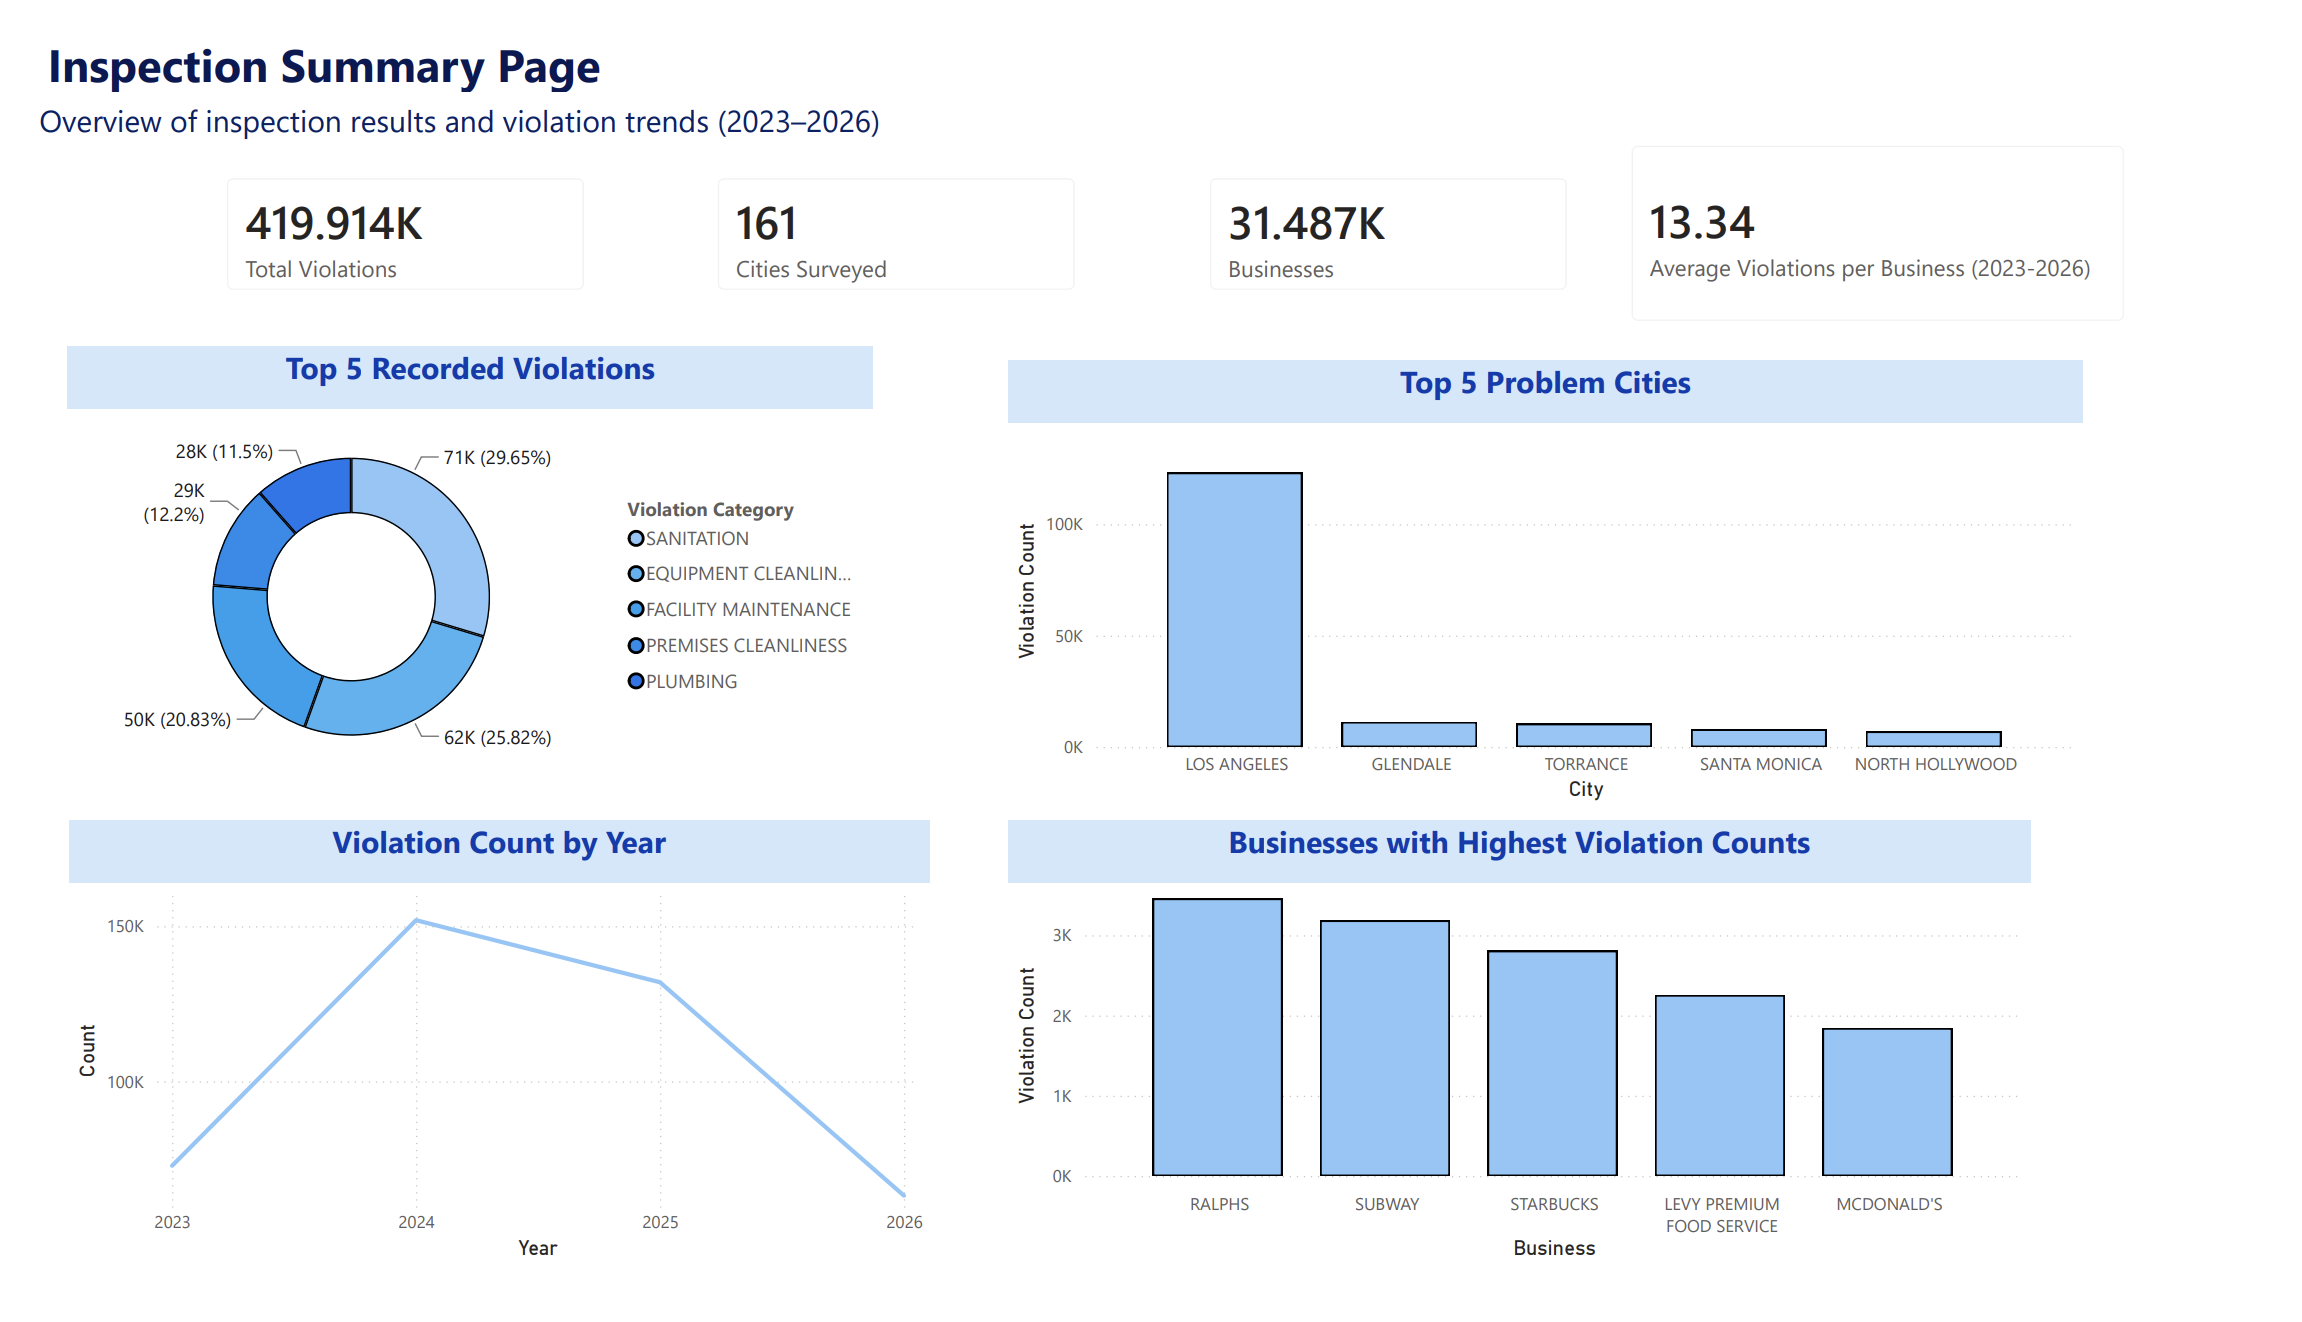

The dashboard page shown, as its layout file describes it:
{"tool":"powerbi","page":{"name":"Home Summary Page","canvas":[1600,900],"ordinal":0},"visuals":[{"type":"textbox","box":[10.4,0,419.4,79.1],"z":0},{"type":"cardVisual","fields":{"Data":["CountNonNull(violations_clean.violation_description)"]},"box":[125.4,91,286.6,113.4],"z":1000},{"type":"cardVisual","fields":{"Data":["Count(inspections_clean.facility_city)"]},"box":[473.1,91,286.6,113.4],"z":2000},{"type":"cardVisual","fields":{"Data":["Count(inspections_clean.ParentCompanyClean)"]},"box":[822.4,91,286.6,113.4],"z":3000},{"type":"donutChart","title":"Top 5 Recorded Violations","fields":{"Category":["violations_clean.violation_mapping.standardized_category"],"Y":["inspections_clean.violation_count"]},"box":[28.8,226.8,571.6,316.4],"z":4000},{"type":"columnChart","title":"Top 5 Problem Cities","fields":{"Category":["inspections_clean.facility_city"],"Y":["inspections_clean.violation_count"]},"box":[695.5,237.3,762.7,316.4],"z":5000},{"type":"lineChart","title":"Violation Count by Year","fields":{"Category":["CalendarDate.Year"],"Y":["inspections_clean.violation_count"]},"box":[29.9,562.7,610.4,316.4],"z":6000},{"type":"columnChart","title":"Businesses with Highest Violation Counts","fields":{"Y":["big_chain_violations.company_violation_count"],"Category":["inspections_clean.ParentCompanyClean"]},"box":[695.5,562.7,725.4,316.4],"z":7000},{"type":"textbox","box":[3.5,47.4,622.8,43.9],"z":8000},{"type":"cardVisual","fields":{"Data":["inspections_clean.AvgViolationPerBusiness"]},"box":[1121.1,68.4,382.5,157.9],"z":9000}]}

Visuals, with their boxes in screenshot pixels (x1, y1, x2, y2), scaled from the page's 1600x900 canvas onto the 2302x1322 screenshot:
textbox: select_region(15, 0, 618, 116)
cardVisual - CountNonNull(violations_clean.violation_description): select_region(180, 134, 593, 300)
cardVisual - Count(inspections_clean.facility_city): select_region(681, 134, 1093, 300)
cardVisual - Count(inspections_clean.ParentCompanyClean): select_region(1183, 134, 1596, 300)
"Top 5 Recorded Violations" donutChart: select_region(41, 333, 864, 798)
"Top 5 Problem Cities" columnChart: select_region(1001, 349, 2098, 813)
"Violation Count by Year" lineChart: select_region(43, 827, 921, 1291)
"Businesses with Highest Violation Counts" columnChart: select_region(1001, 827, 2044, 1291)
textbox: select_region(5, 70, 901, 134)
cardVisual - inspections_clean.AvgViolationPerBusiness: select_region(1613, 100, 2163, 332)
